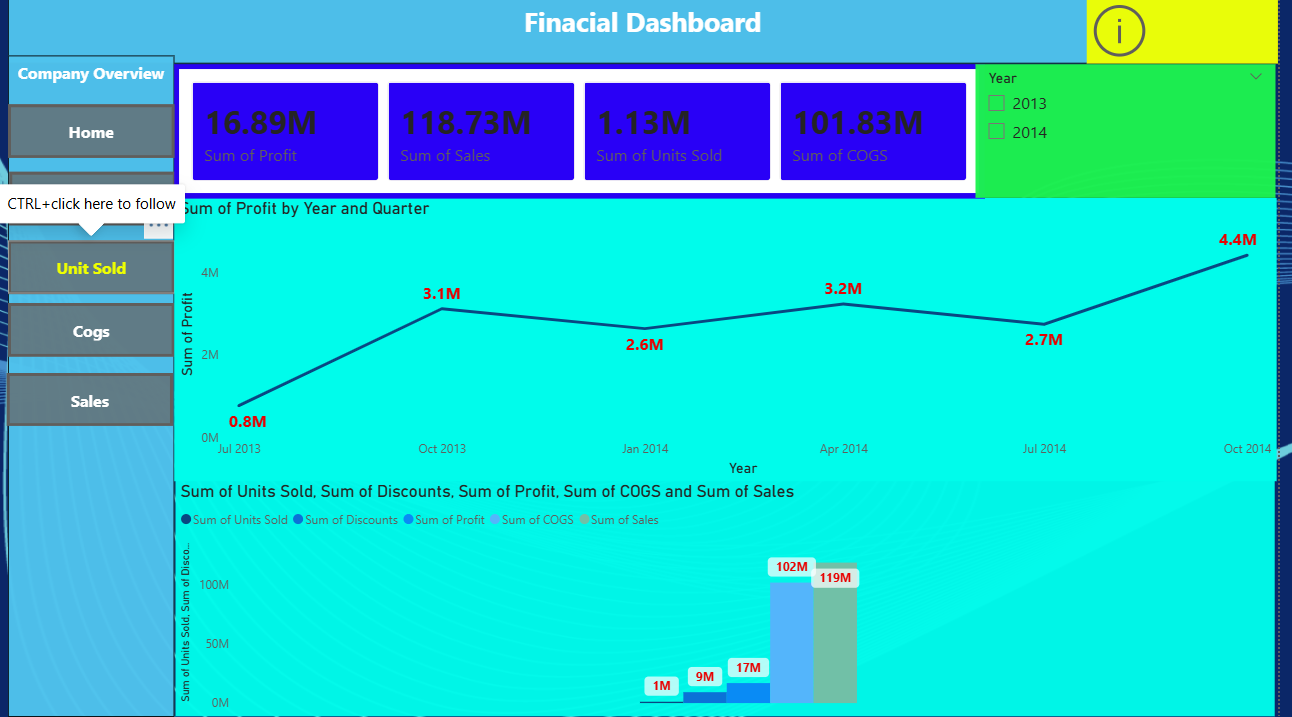

Layout of this report page (visuals, bound fields, positions):
{"tool":"powerbi","page":{"name":"Q9-Dashboard","canvas":[1280,720],"ordinal":9},"visuals":[{"type":"textbox","box":[10.2,0,1269.7,65.6],"z":0},{"type":"textbox","box":[9.6,57.5,166.6,662.8],"z":1000},{"type":"actionButton","box":[10.8,173.8,166.6,53.9],"z":3000},{"type":"actionButton","box":[9.6,242.1,166.6,53.9],"z":4000},{"type":"actionButton","box":[9.6,305.6,166.6,53.9],"z":5000},{"type":"lineClusteredColumnComboChart","fields":{"Y":["Sum(financials.Units Sold)","Sum(financials.Discounts)","Sum(financials.Profit)","Sum(financials.COGS)","Sum(financials.Sales)"]},"box":[177.6,482.5,1099.6,236.8],"z":6000},{"type":"lineChart","fields":{"Category":["financials.Date.Variation.Date Hierarchy.Year","financials.Date.Variation.Date Hierarchy.Quarter"],"Y":["Sum(financials.Profit)"]},"box":[176,200.5,1102.1,283.2],"z":7000},{"type":"cardVisual","fields":{"Data":["Sum(financials.Profit)","Sum(financials.Sales)","Sum(financials.Units Sold)","Sum(financials.COGS)"]},"box":[175.8,66.4,810.8,134.5],"z":8000},{"type":"slicer","fields":{"Values":["financials.Year"]},"box":[978,66.7,299.6,133.4],"z":9000},{"type":"actionButton","box":[9,375.4,166.2,53.1],"z":9001},{"type":"actionButton","box":[9.6,106.7,166.6,53.9],"z":9002},{"type":"actionButton","box":[1088.8,0,191.1,65.6],"z":9003}]}

Visuals, with their boxes on the page's 1280x720 design canvas (x1, y1, x2, y2). These are canvas units, not pixel positions in the 1292x717 screenshot, which may show the page scaled, cropped or inside an application window:
textbox: 10,0,1280,66
textbox: 10,58,176,720
actionButton: 11,174,177,228
actionButton: 10,242,176,296
actionButton: 10,306,176,360
lineClusteredColumnComboChart - Sum(financials.Units Sold) x Sum(financials.Discounts): 178,482,1277,719
lineChart - financials.Date.Variation.Date Hierarchy.Year x financials.Date.Variation.Date Hierarchy.Quarter: 176,200,1278,484
cardVisual - Sum(financials.Profit) x Sum(financials.Sales): 176,66,987,201
slicer - financials.Year: 978,67,1278,200
actionButton: 9,375,175,428
actionButton: 10,107,176,161
actionButton: 1089,0,1280,66
